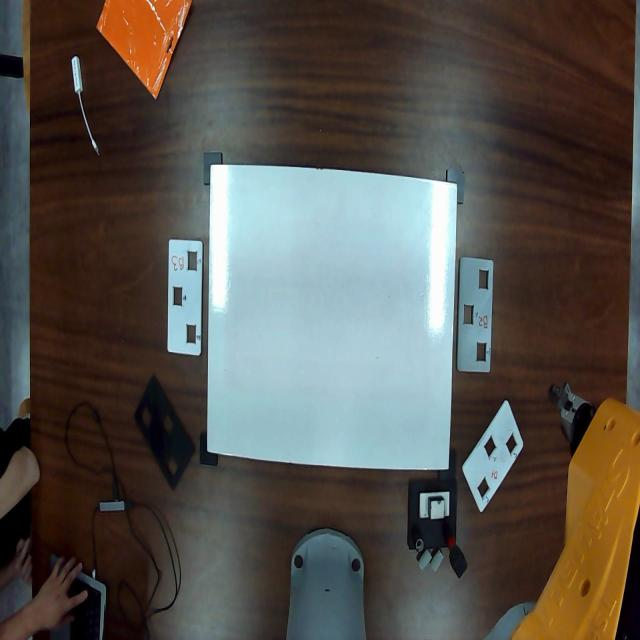default_frame: (207, 164, 458, 471)
